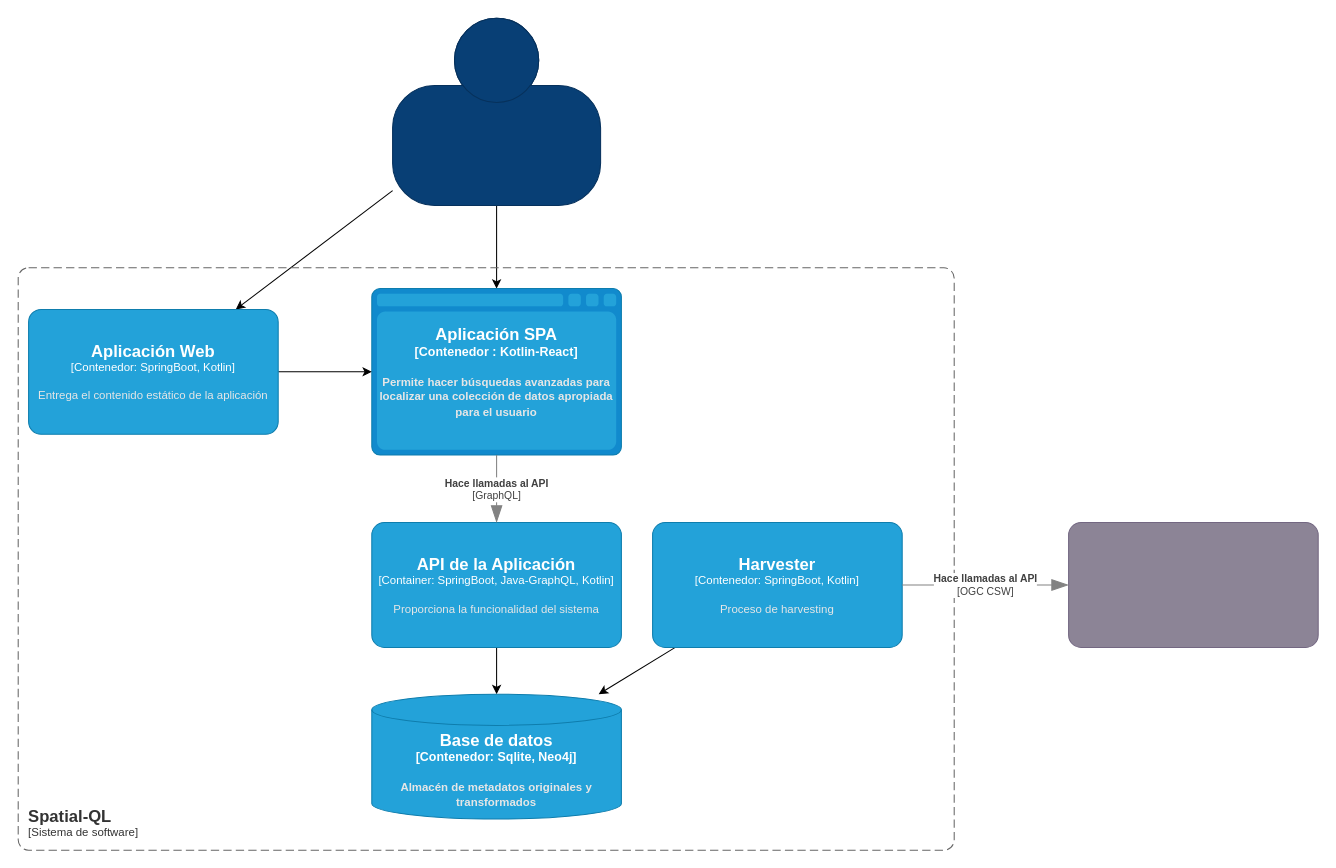
The diagram is 1336 pixels wide and 868 high, and some of its shapes have lost their labels. The centre of each missing label's shape, as x and y in pixels:
"Catálogo [Catálogo CSW] Un catálogo con metadatos espaciales" goes at (x=1193, y=584).
"Ciudadano [Persona] Alguien que busca datos" goes at (x=496, y=111).
